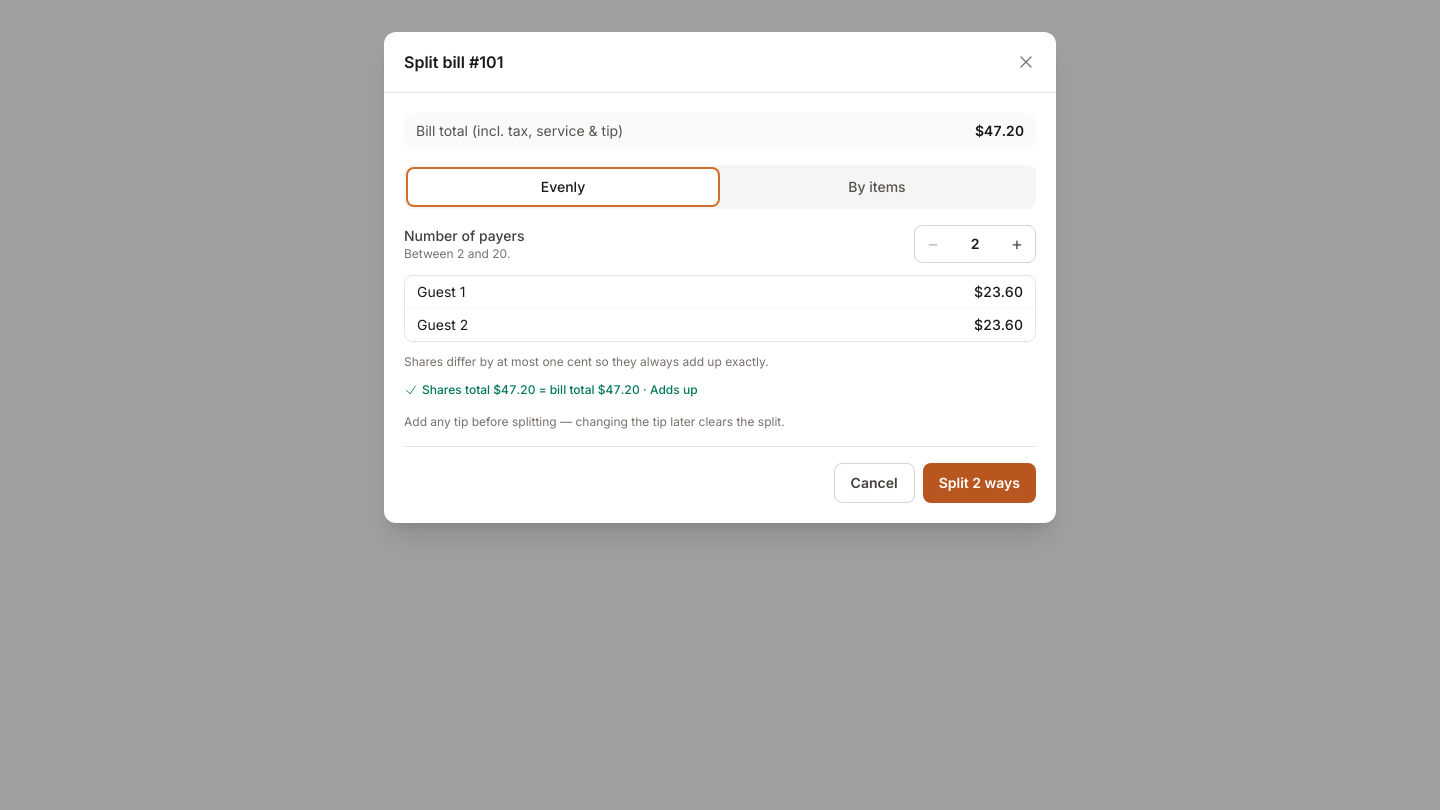
Test: SplitDialog › rejects a by-items split that gives every item to a single guest
Click the tab "By items": coordinates (877, 187) top-left (722, 169), bottom-right (1032, 205)
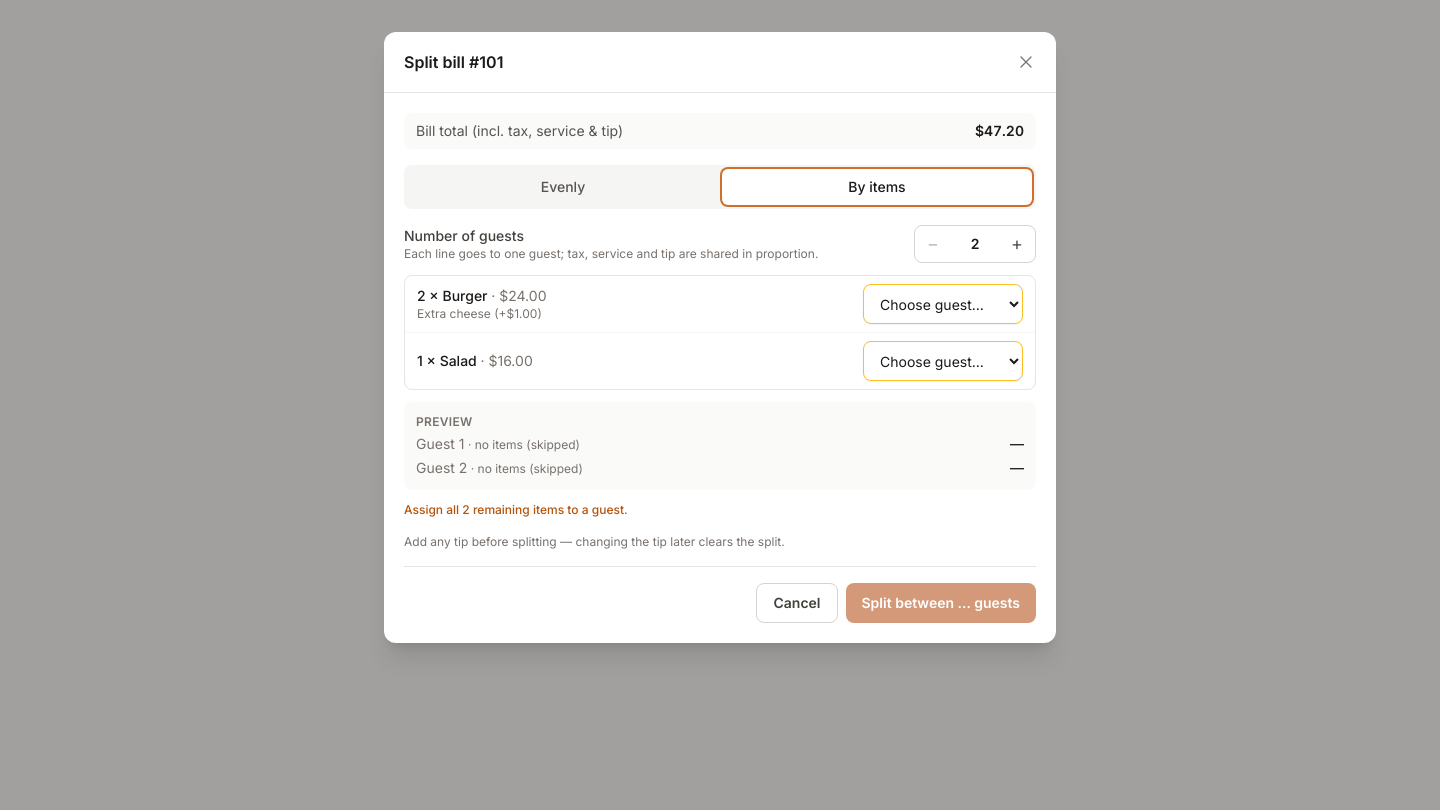
Select "Guest 1" in the dropdown named "Guest paying for Burger": coordinates (943, 304) top-left (863, 284), bottom-right (1023, 324)
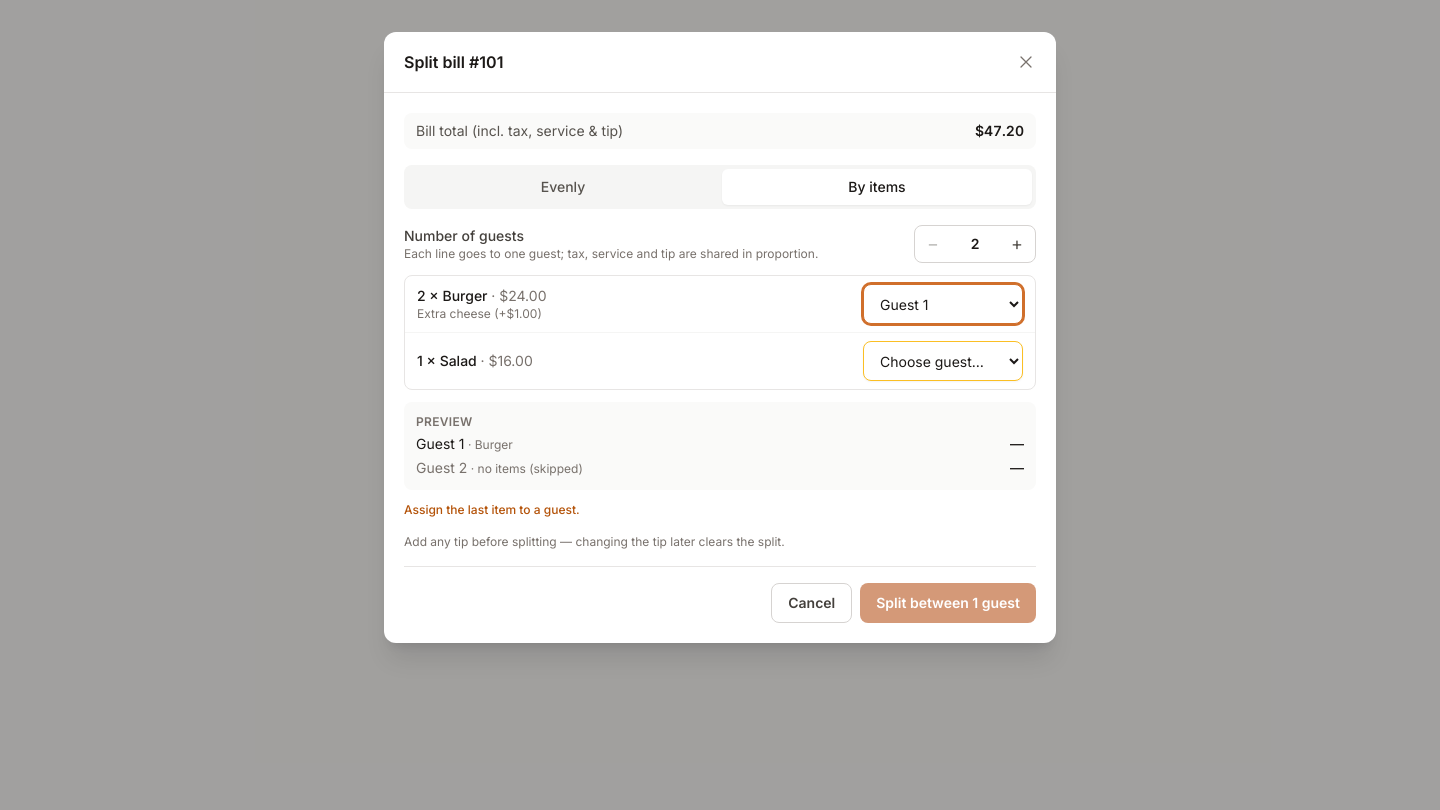
Select "Guest 1" in the dropdown named "Guest paying for Salad": coordinates (943, 361) top-left (863, 341), bottom-right (1023, 381)
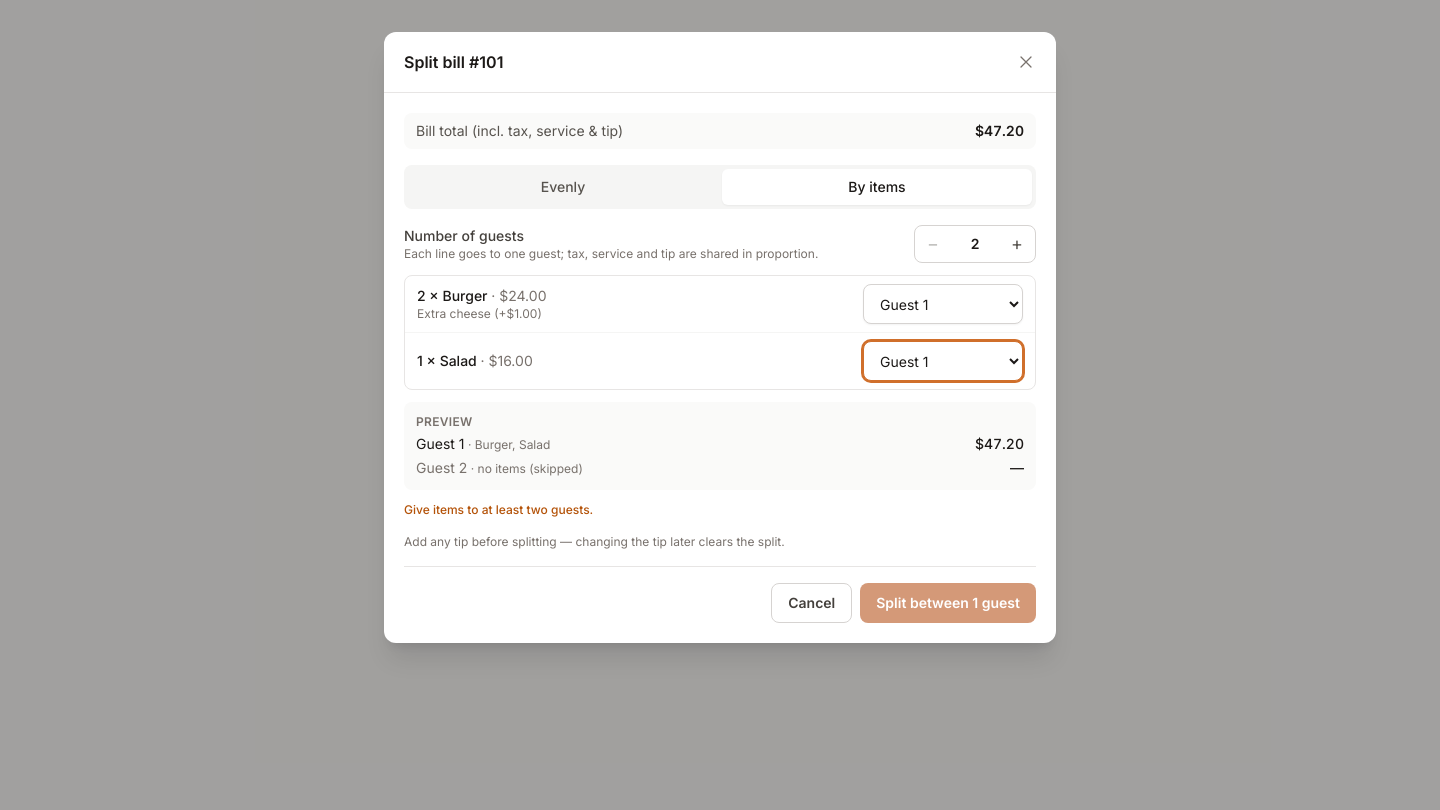
expect the button "Split between 1 guest" is disabled: met, box top-left (860, 583), bottom-right (1036, 623)
expect the text "Give items to at least two guests." is shown: met, box top-left (404, 502), bottom-right (593, 517)
